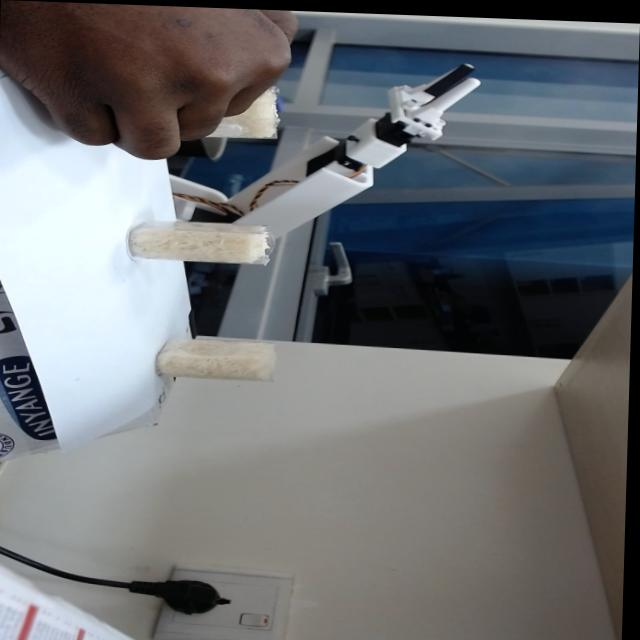raw_rice: (130, 218, 275, 260), (156, 336, 277, 379), (211, 83, 280, 141)
